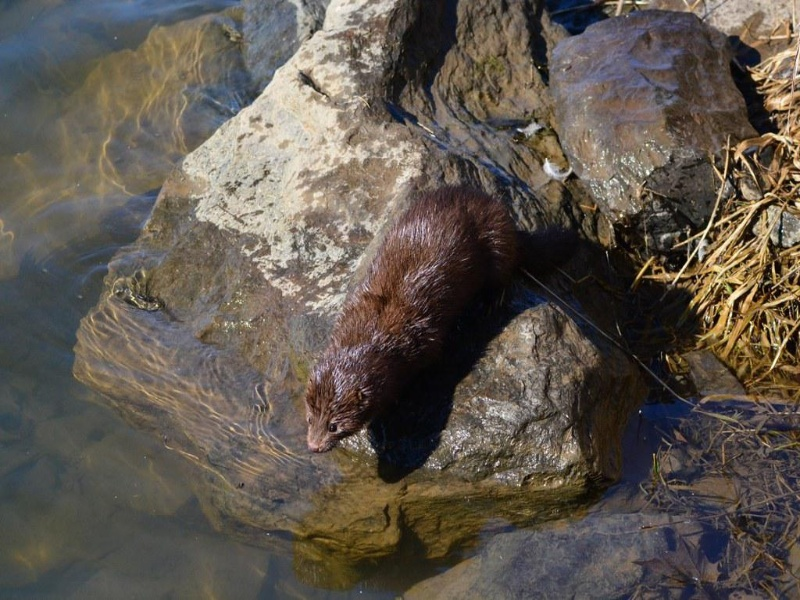minkish: (302, 185, 524, 459)
